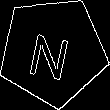N_N: (28, 22, 78, 80)
